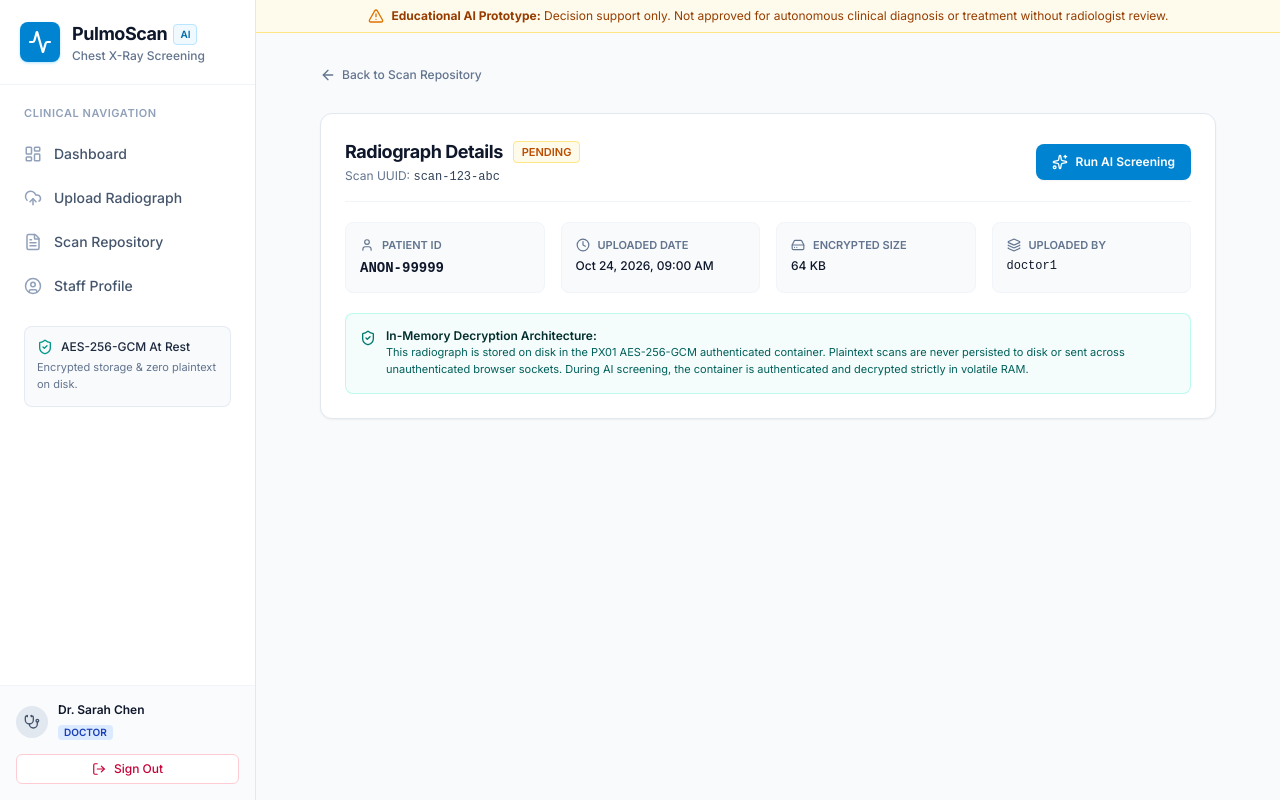
Test case: ScanDetailPage › displays tampering conflict error if ciphertext fails GCM authentication (409)
Click the button "Run AI Screening": [1113, 162] box [1036, 144, 1191, 180]
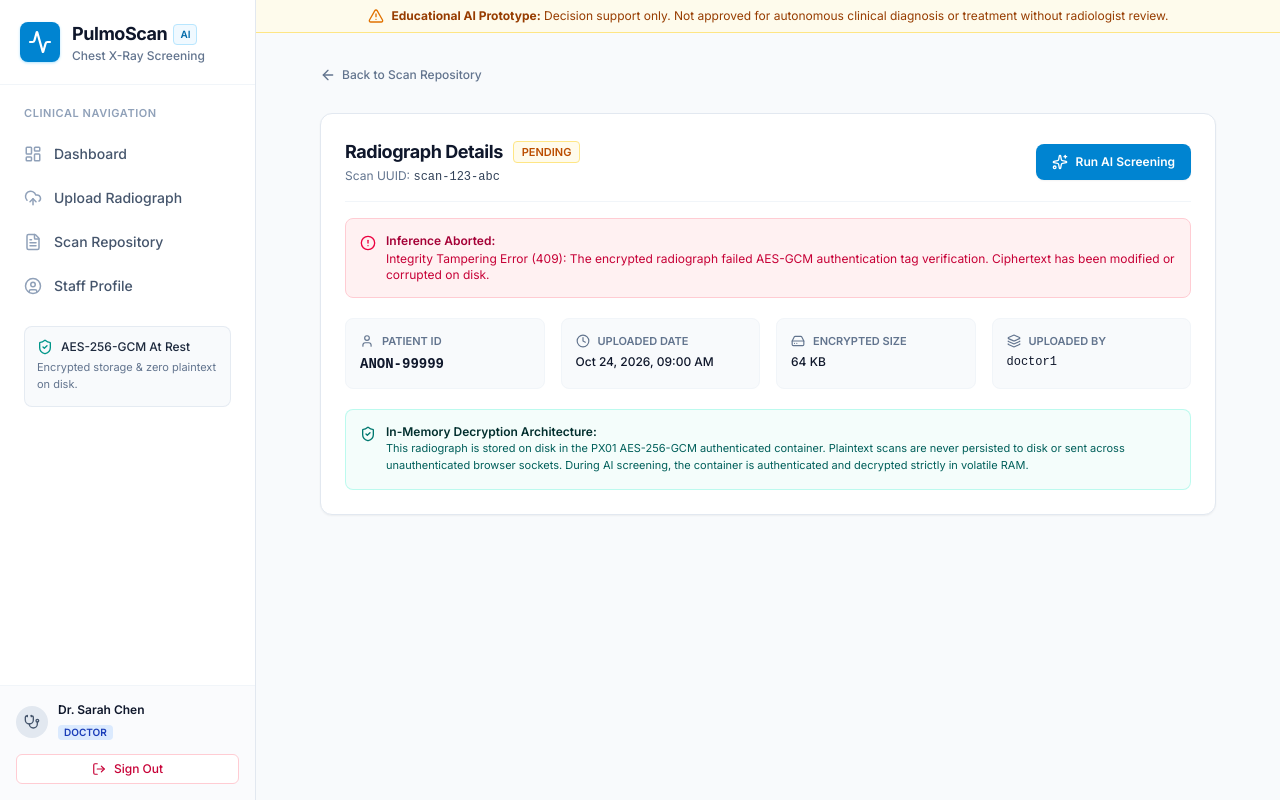
Result: the text "failed AES-GCM authentication tag verification" is shown at [386, 251, 1175, 282]
